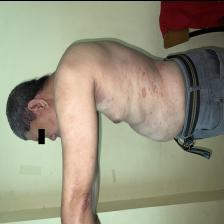Psoriasis vulgaris: (134, 58, 174, 116)
